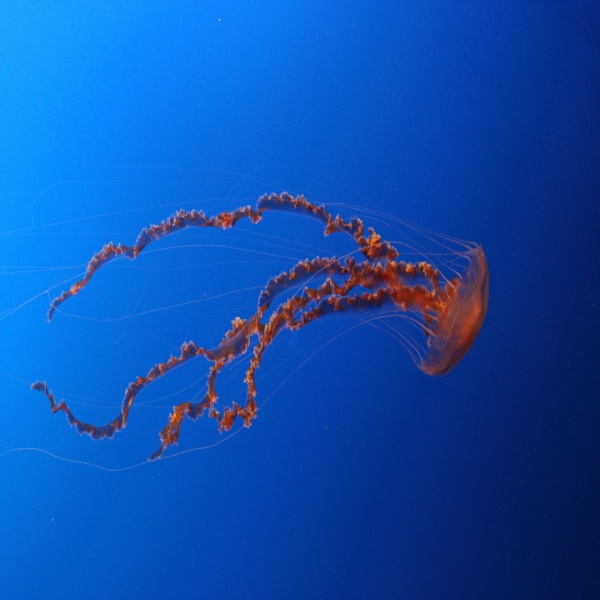Jellyfish: (26, 190, 489, 466)
